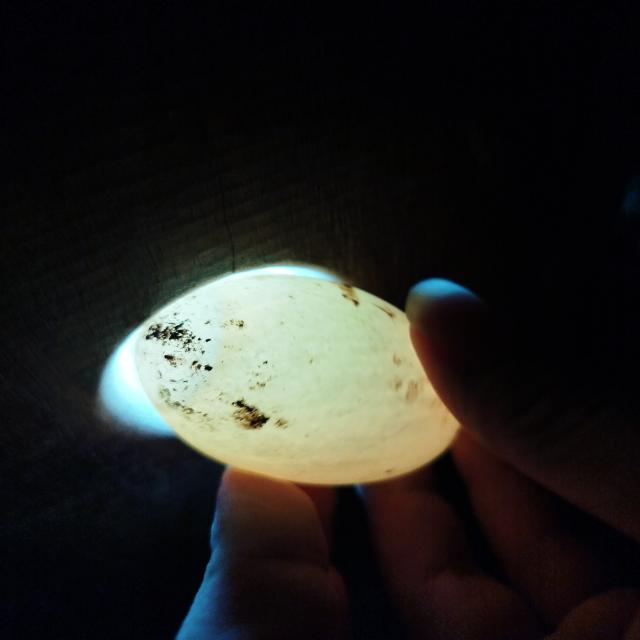Camara de Ar: (133, 284, 220, 405)
